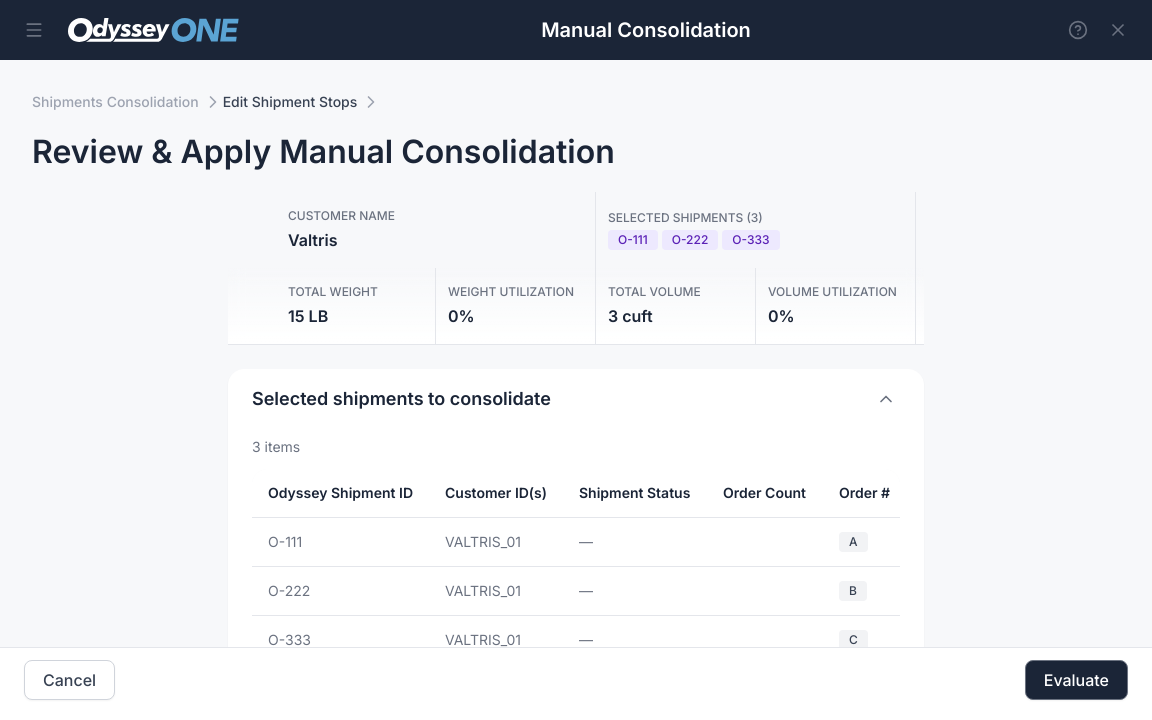
Test case: ConsolidateStopsRoute › S11: a tendered source removed in the modal drops out of the table and the chips
The image size is (1152, 720).
Step 1. Click the button "Evaluate" → (1076, 680), box top-left (1025, 660), bottom-right (1128, 700)
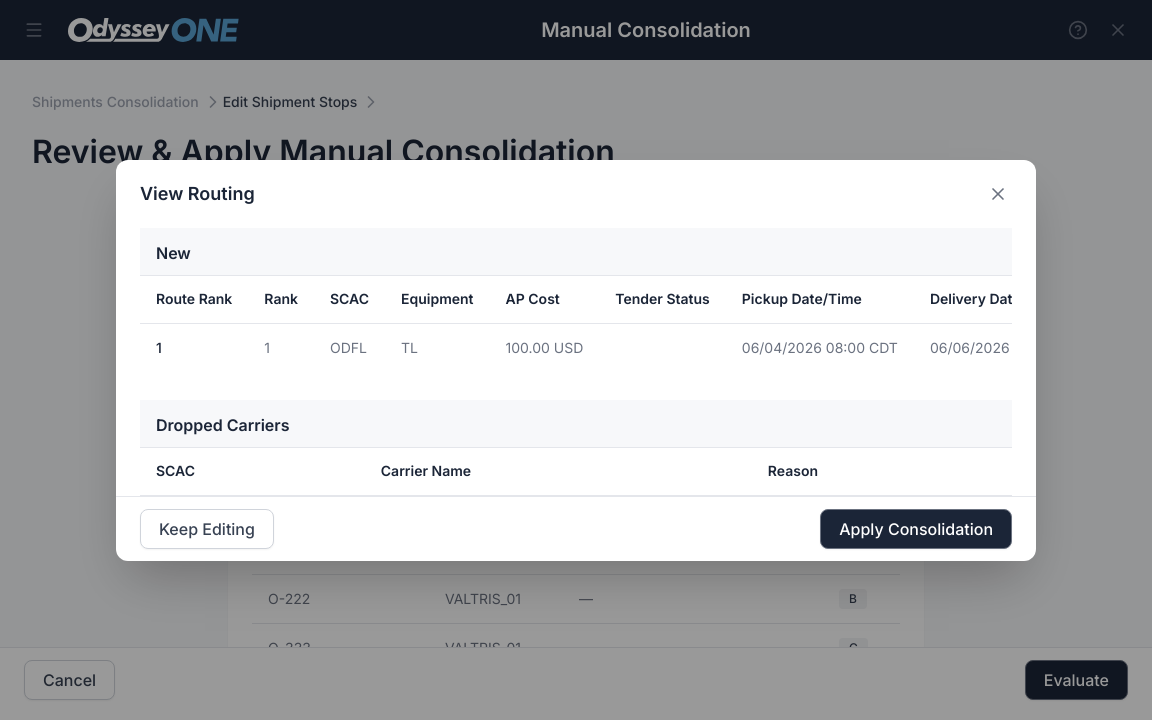
Step 2. Click the button "Apply Consolidation" → (916, 528), box top-left (820, 508), bottom-right (1012, 548)
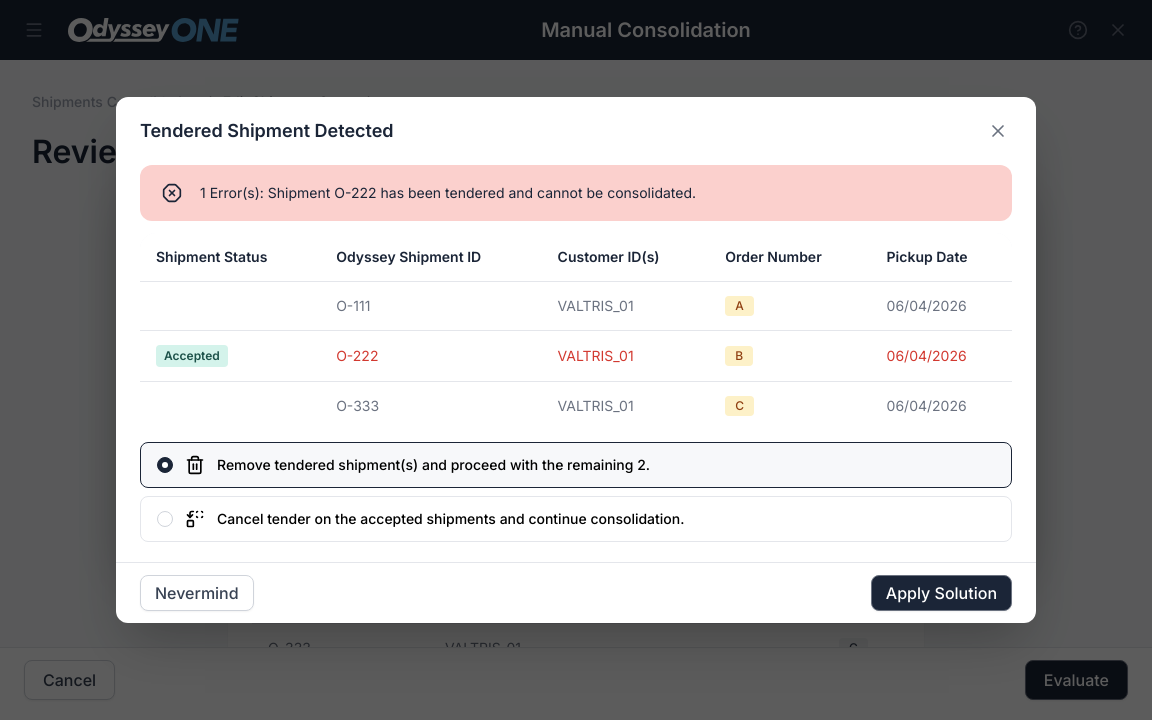
Expected: the text "Tendered Shipment Detected" is shown, top-left (140, 119), bottom-right (394, 143)
Step 3. Click the button "Apply Solution" → (941, 593), box top-left (871, 575), bottom-right (1012, 611)
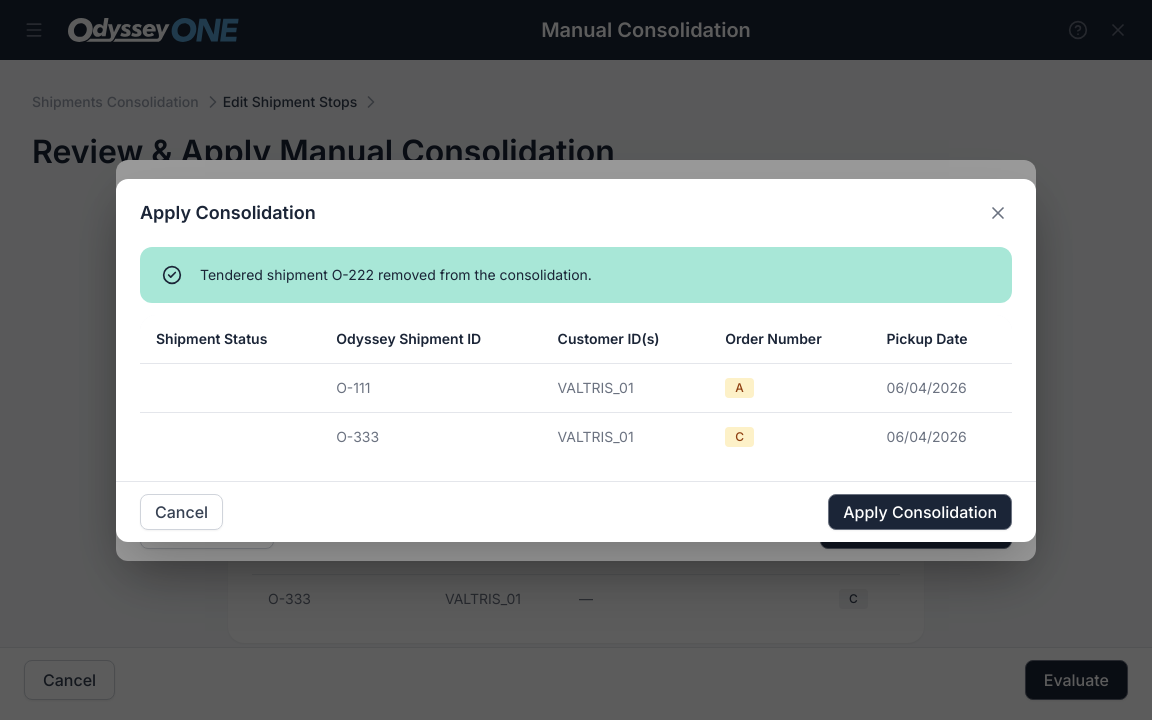
Expected: the 2nd text "O-111" is shown, top-left (252, 526), bottom-right (429, 575)
Expected: the text "Tendered shipment O-222 removed from the consolidation." is shown, top-left (200, 266), bottom-right (592, 282)
